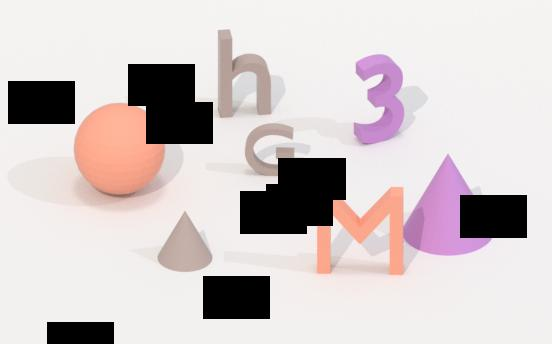3: (351, 50, 407, 146)
G-hoa: (241, 118, 299, 181)
M-hoa: (315, 183, 406, 282)
cau: (73, 101, 167, 202)
h: (214, 25, 274, 122)
non: (401, 145, 498, 265), (156, 207, 216, 276)
